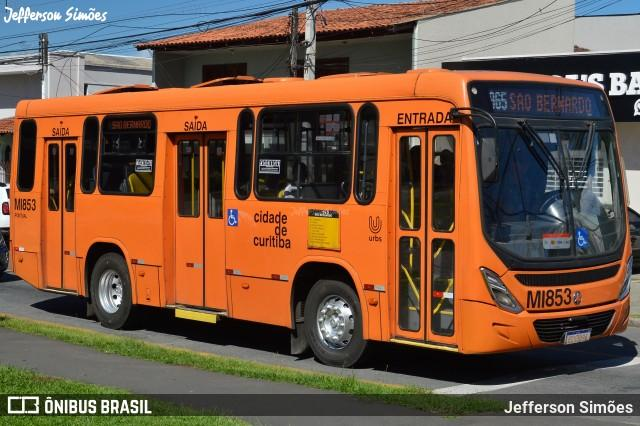SAO BERNARDO: (507, 88, 596, 118)
